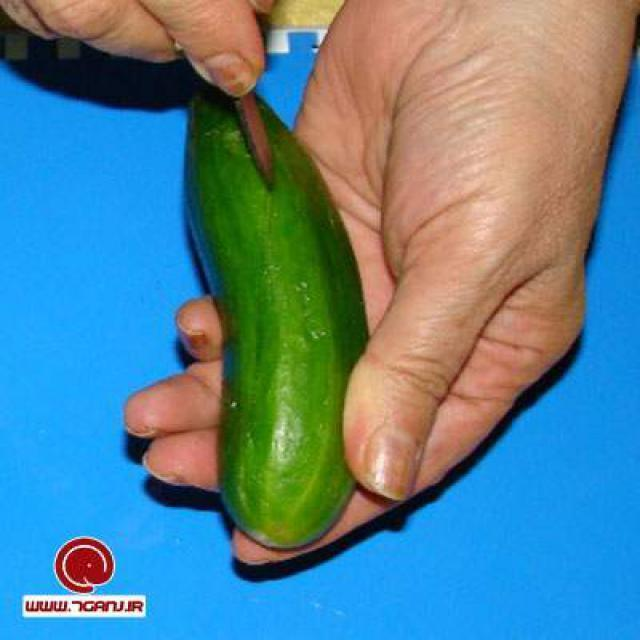cucumber: (181, 92, 371, 556)
